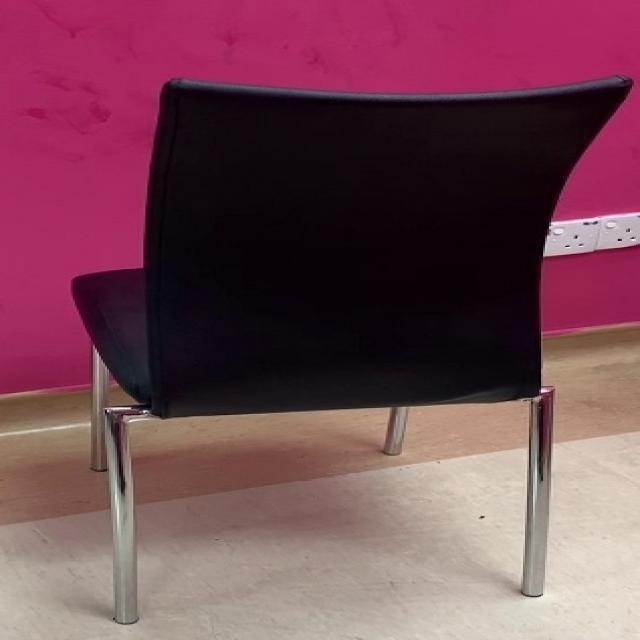chair: (72, 72, 634, 628)
